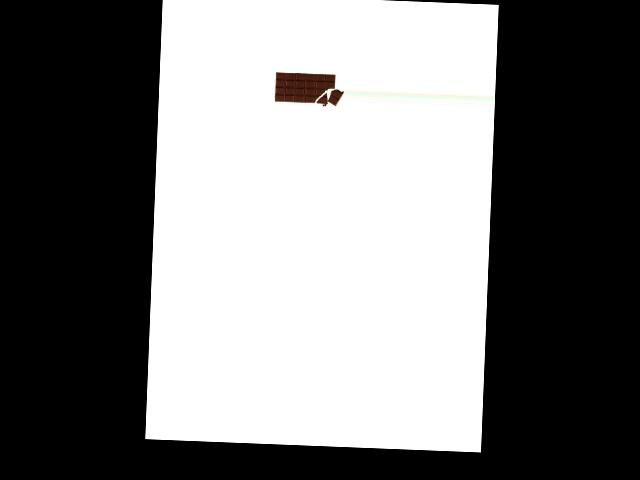chocolate: (273, 67, 344, 113)
